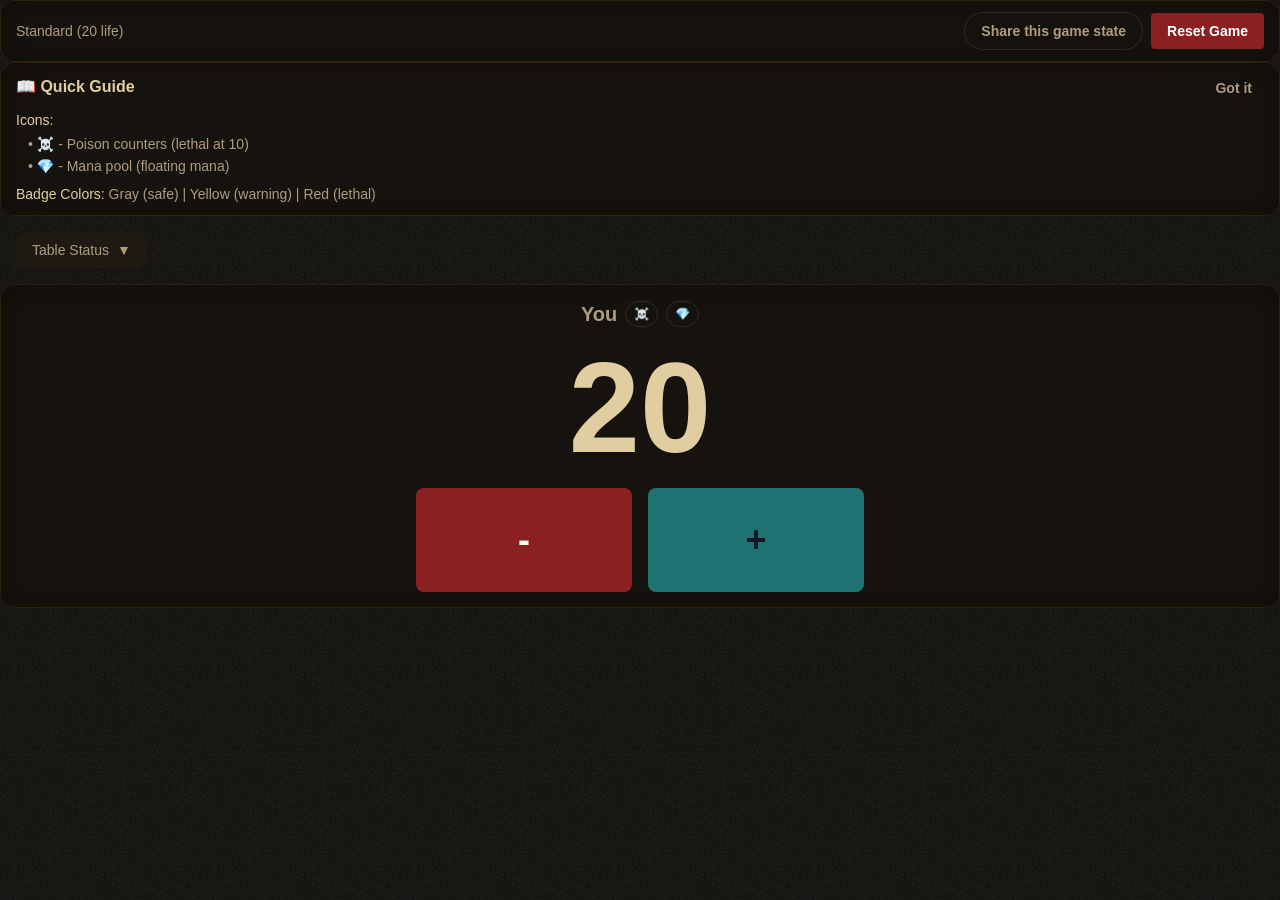
Scenario: LifeTracker › dismisses help legend when Got it is clicked
Expected: the element with test id "help-legend-banner" is shown, [0,62,1279,216]
Click the button with aria-label "Dismiss help legend" at (1234, 88), box [1204,74,1264,102]
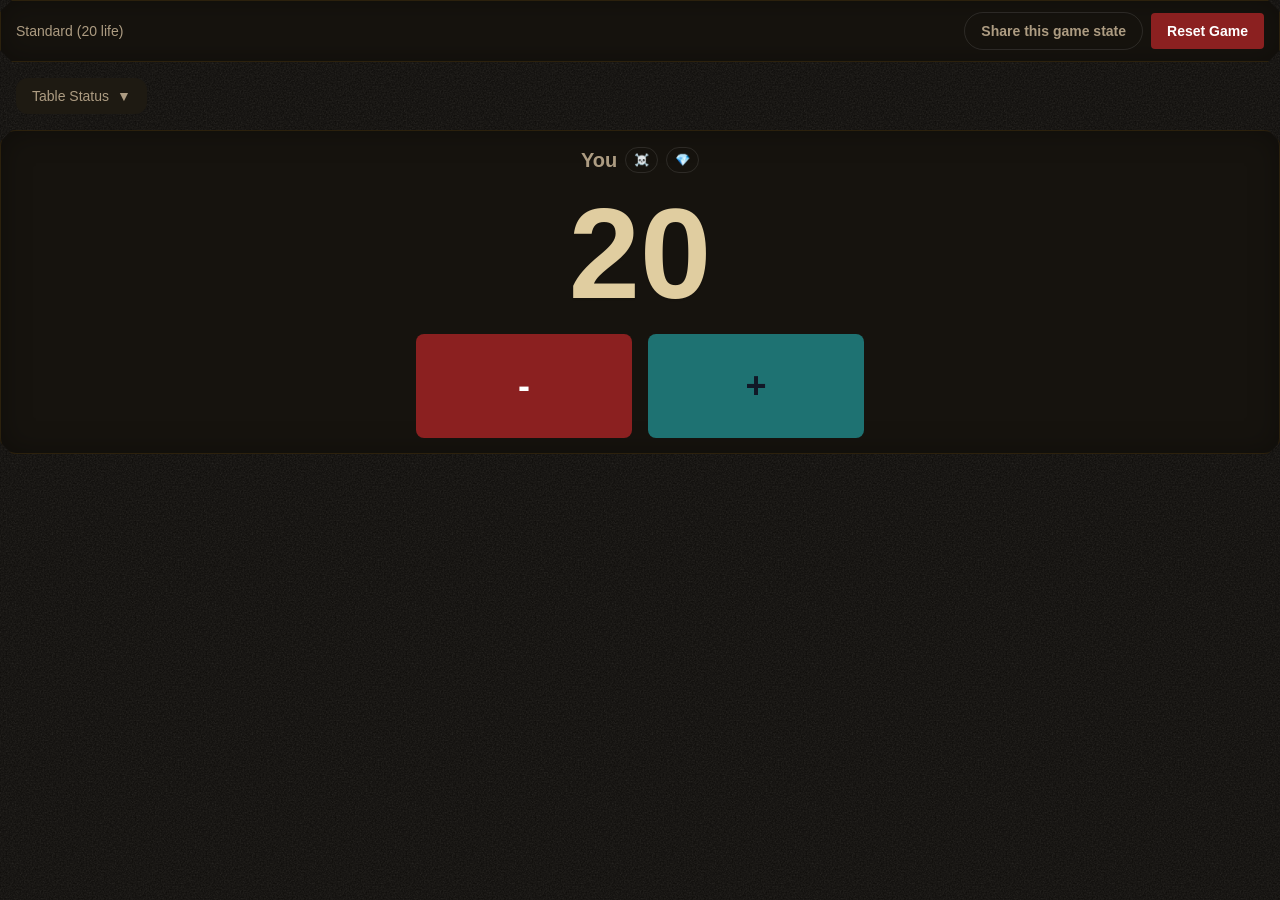
Expected: the element with test id "help-legend-banner" is gone
